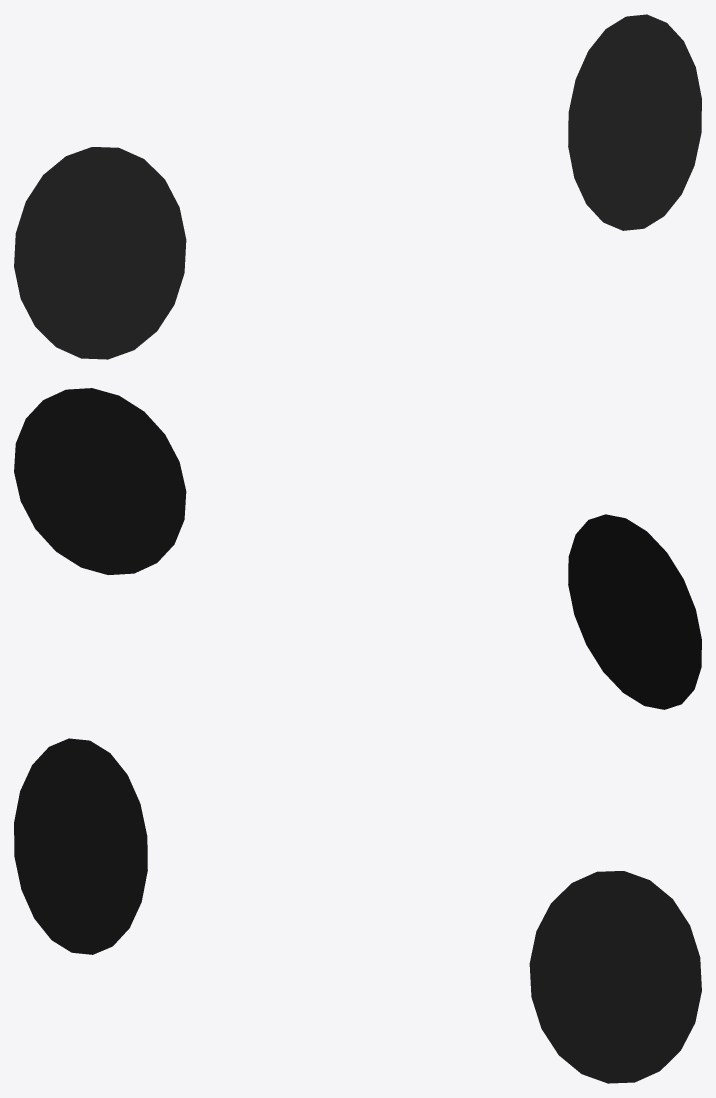
The model's file is eye_9.fbx.
3 views of the same model, one above another, from view 1: azimuth 30°, elevation 25°; view 2: azimuth 150°, elevation 25°; view 3: azimuth 330°, elevation 25° (orthographic).
Parts seen in each view (by area): view 1: eye_9; view 2: eye_9; view 3: eye_9.
Part boxes in pixels (x1=…): eye_9: x1=14, y1=14, x2=701, y2=359; eye_9: x1=14, y1=388, x2=701, y2=709; eye_9: x1=14, y1=738, x2=701, y2=1083.
Size of the model in its own units: 0.7295 by 0.2026 by 0.0471.
